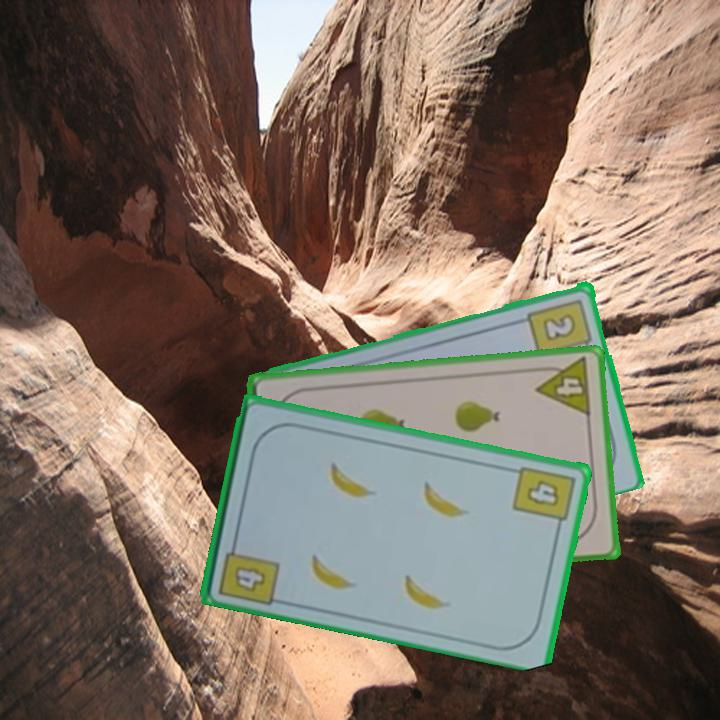2b: (525, 294, 596, 358)
4b: (215, 534, 282, 608), (509, 462, 578, 533)
4p: (531, 354, 594, 419)
